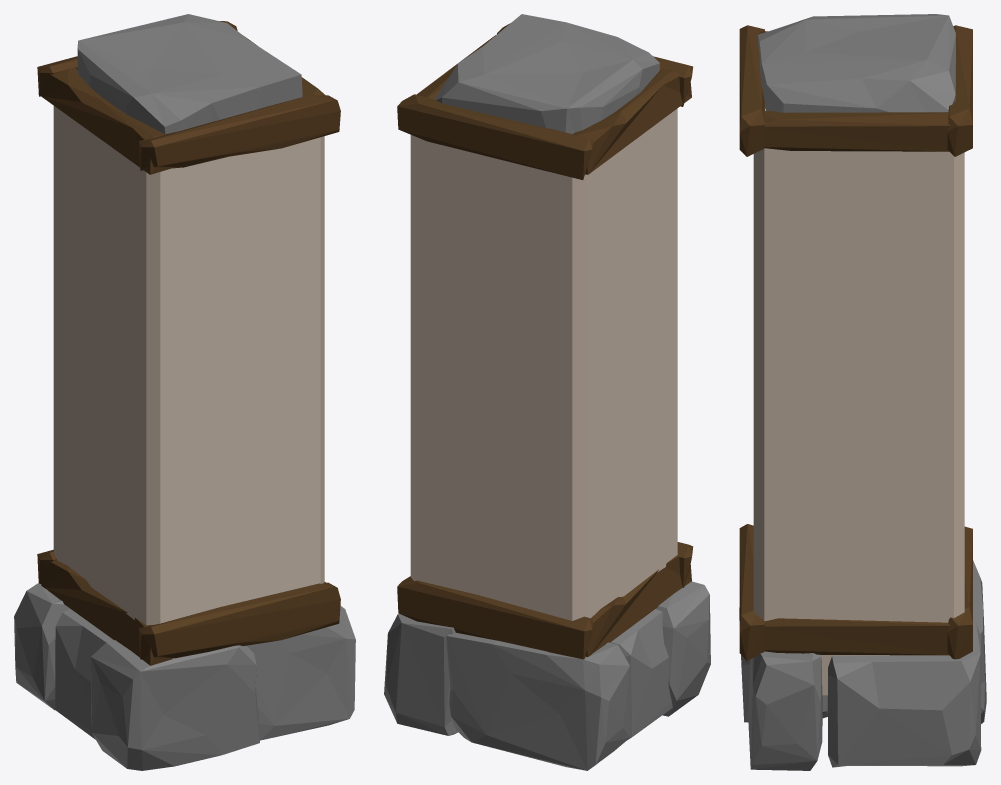
The model's file is SM_wall_connector.fbx.
The picture shows the model from 3 angles, left to right: view 1: azimuth 30°, elevation 25°; view 2: azimuth 150°, elevation 25°; view 3: azimuth 270°, elevation 25°; orthographic projection. The views are drawn at different scales.
Visible parts, largest first — view 1: Object2157; view 2: Object2157; view 3: Object2157.
Boxes of the visible parts, x1,y1,x2,y2 form: Object2157: (14,14,355,770); Object2157: (384,14,710,770); Object2157: (739,14,986,770).
Bounding box in the file's own units: 44.95 × 119 × 39.53.
